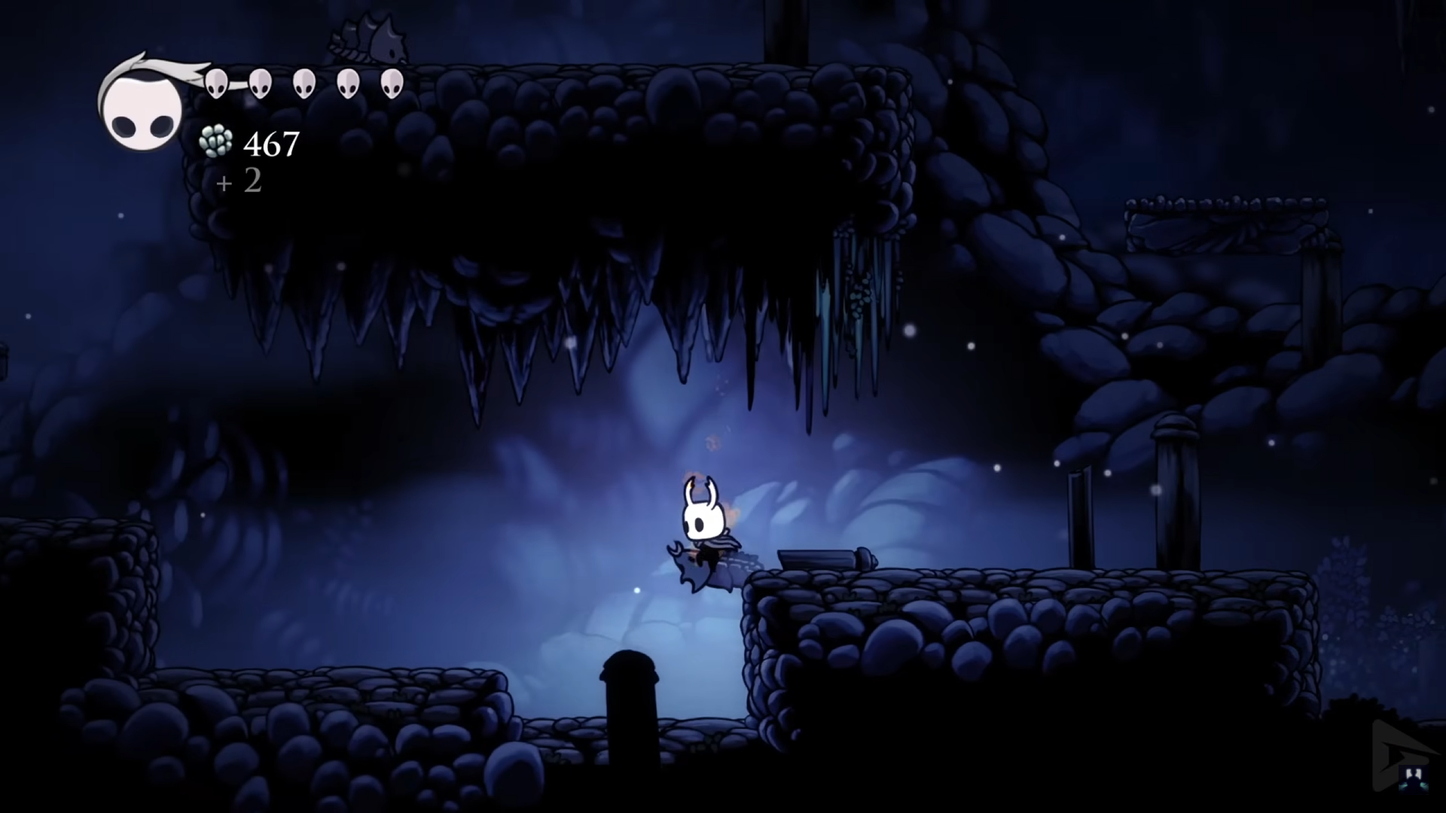HK: (673, 471, 737, 587)
